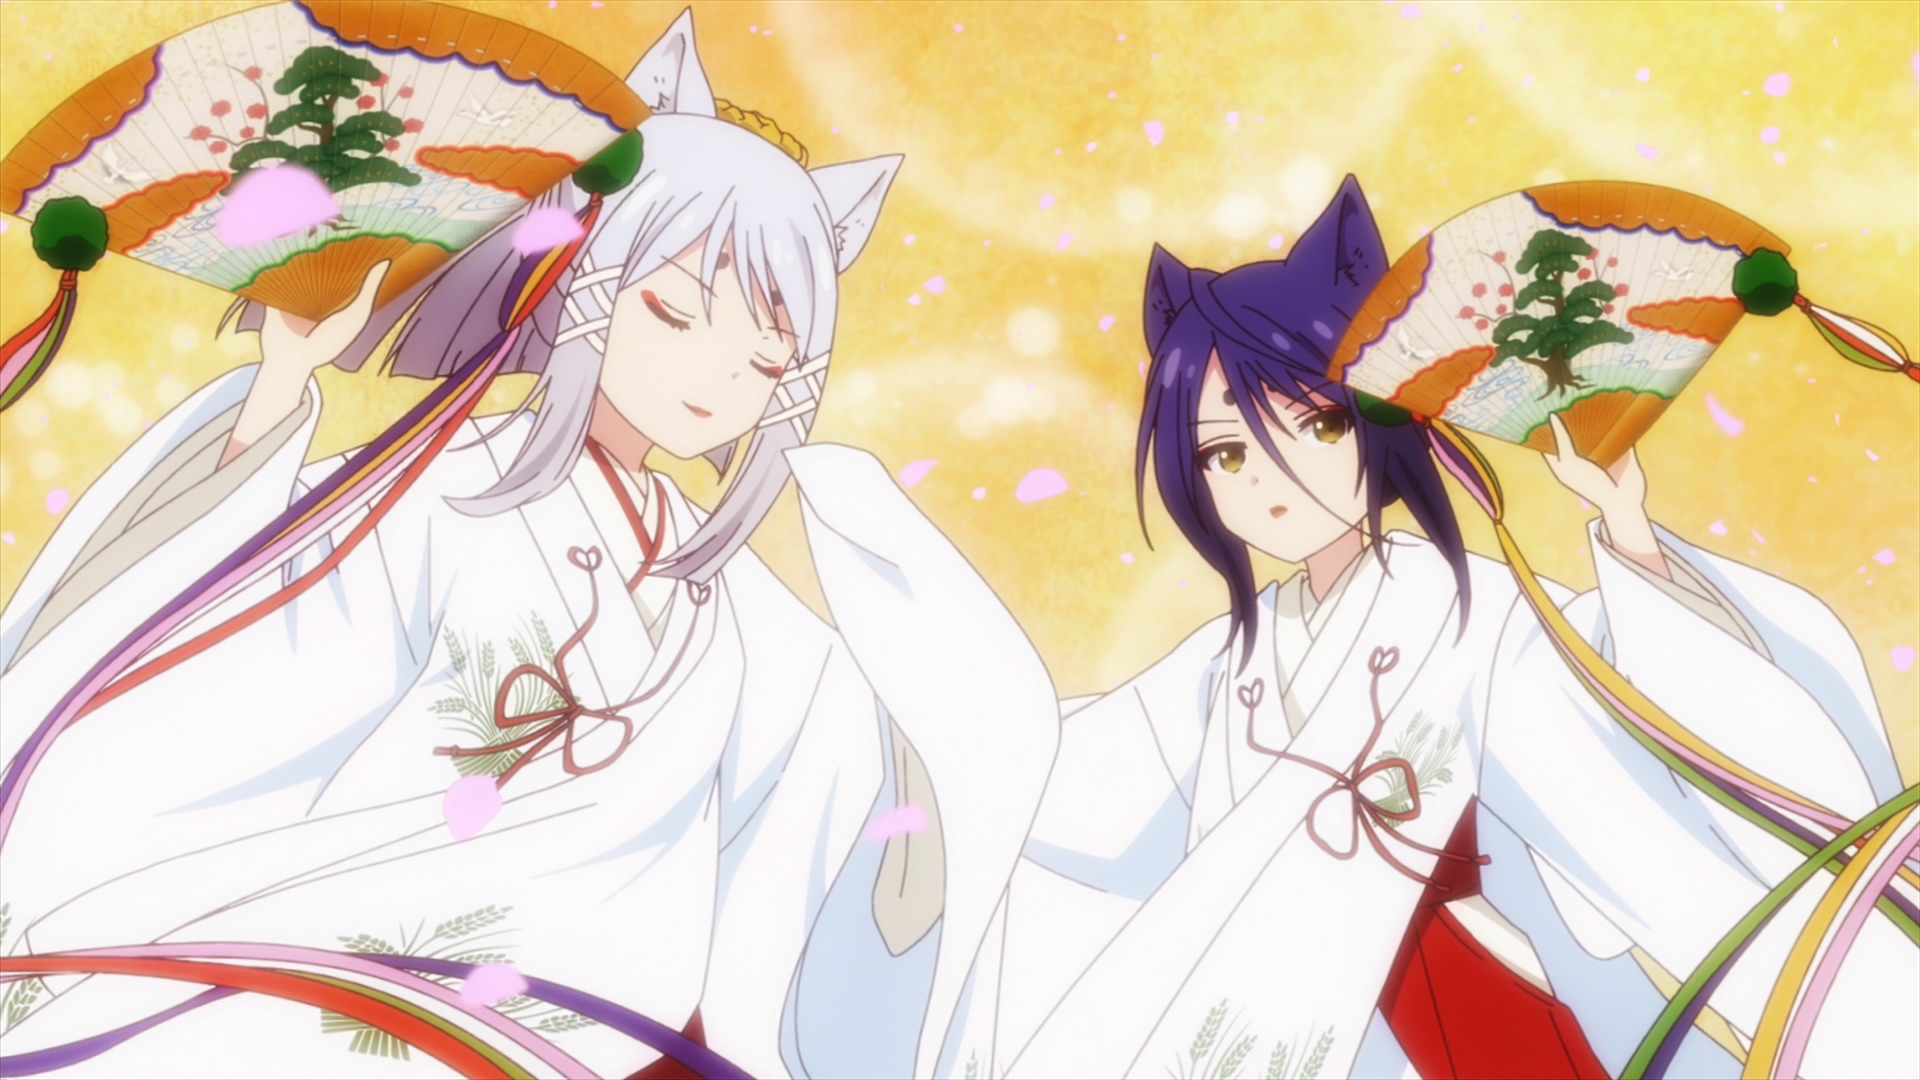柊: (1, 5, 1059, 1080)
皋: (931, 171, 1920, 1080)
